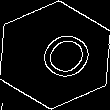O_SW: (19, 22, 91, 88)
